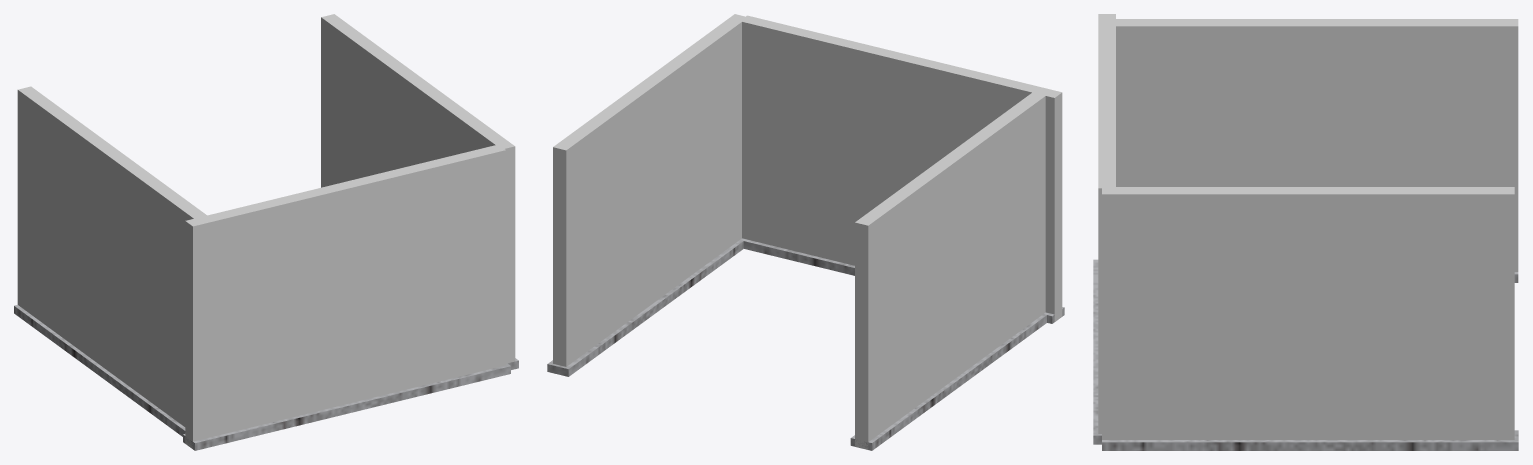
File: wall.fbx
3 views of the same model, side by side, from view 1: azimuth 30°, elevation 25°; view 2: azimuth 150°, elevation 25°; view 3: azimuth 270°, elevation 25° (orthographic). The views are drawn at different scales.
Visible parts, largest first — view 1: walls.002, walls.001; view 2: walls.002, walls.001; view 3: walls.002, walls.001.
Part boxes in pixels (x1,y1,x2,y2): walls.002: [183, 14, 518, 450]; walls.001: [14, 86, 206, 436]; walls.002: [547, 14, 1064, 376]; walls.001: [850, 92, 1046, 450]; walls.002: [1093, 14, 1518, 450]; walls.001: [1116, 19, 1518, 282].
Bounding box in the file's own units: 744 × 484 × 732.
